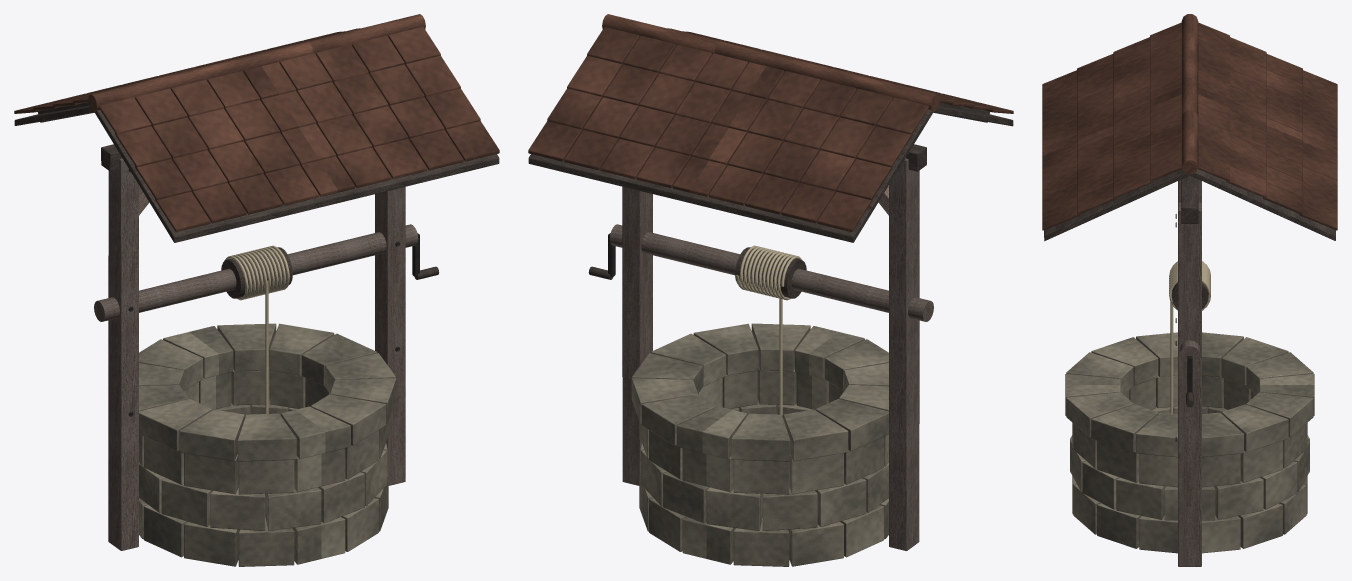
Rendered from Well.gltf.
The picture shows the model from 3 angles, left to right: view 1: azimuth 30°, elevation 25°; view 2: azimuth 150°, elevation 25°; view 3: azimuth 270°, elevation 25°; orthographic projection. The views are drawn at different scales.
Visible parts, largest first — view 1: Well; view 2: Well; view 3: Well.
Part boxes in pixels (left/top/right/bottom): Well: left=14, top=14, right=499, bottom=566; Well: left=528, top=14, right=1013, bottom=566; Well: left=1042, top=14, right=1337, bottom=566.
Bounding box in the file's own units: 1.99 × 2.52 × 1.62.
Materials: 10 (9 with a texture image).
